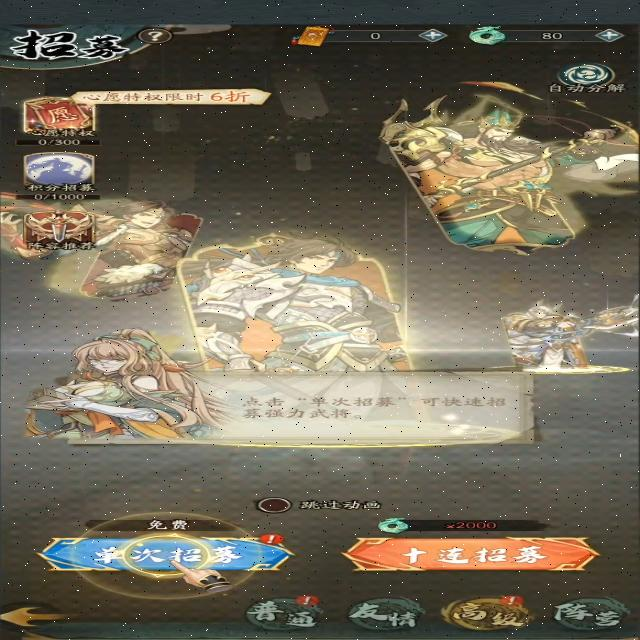hint-guide: (23, 329, 551, 456), (39, 508, 291, 602)
operation-back: (1, 602, 75, 633)
operation-singleRecruit: (45, 535, 293, 576)
operation-tenRecruit: (340, 534, 604, 574)
